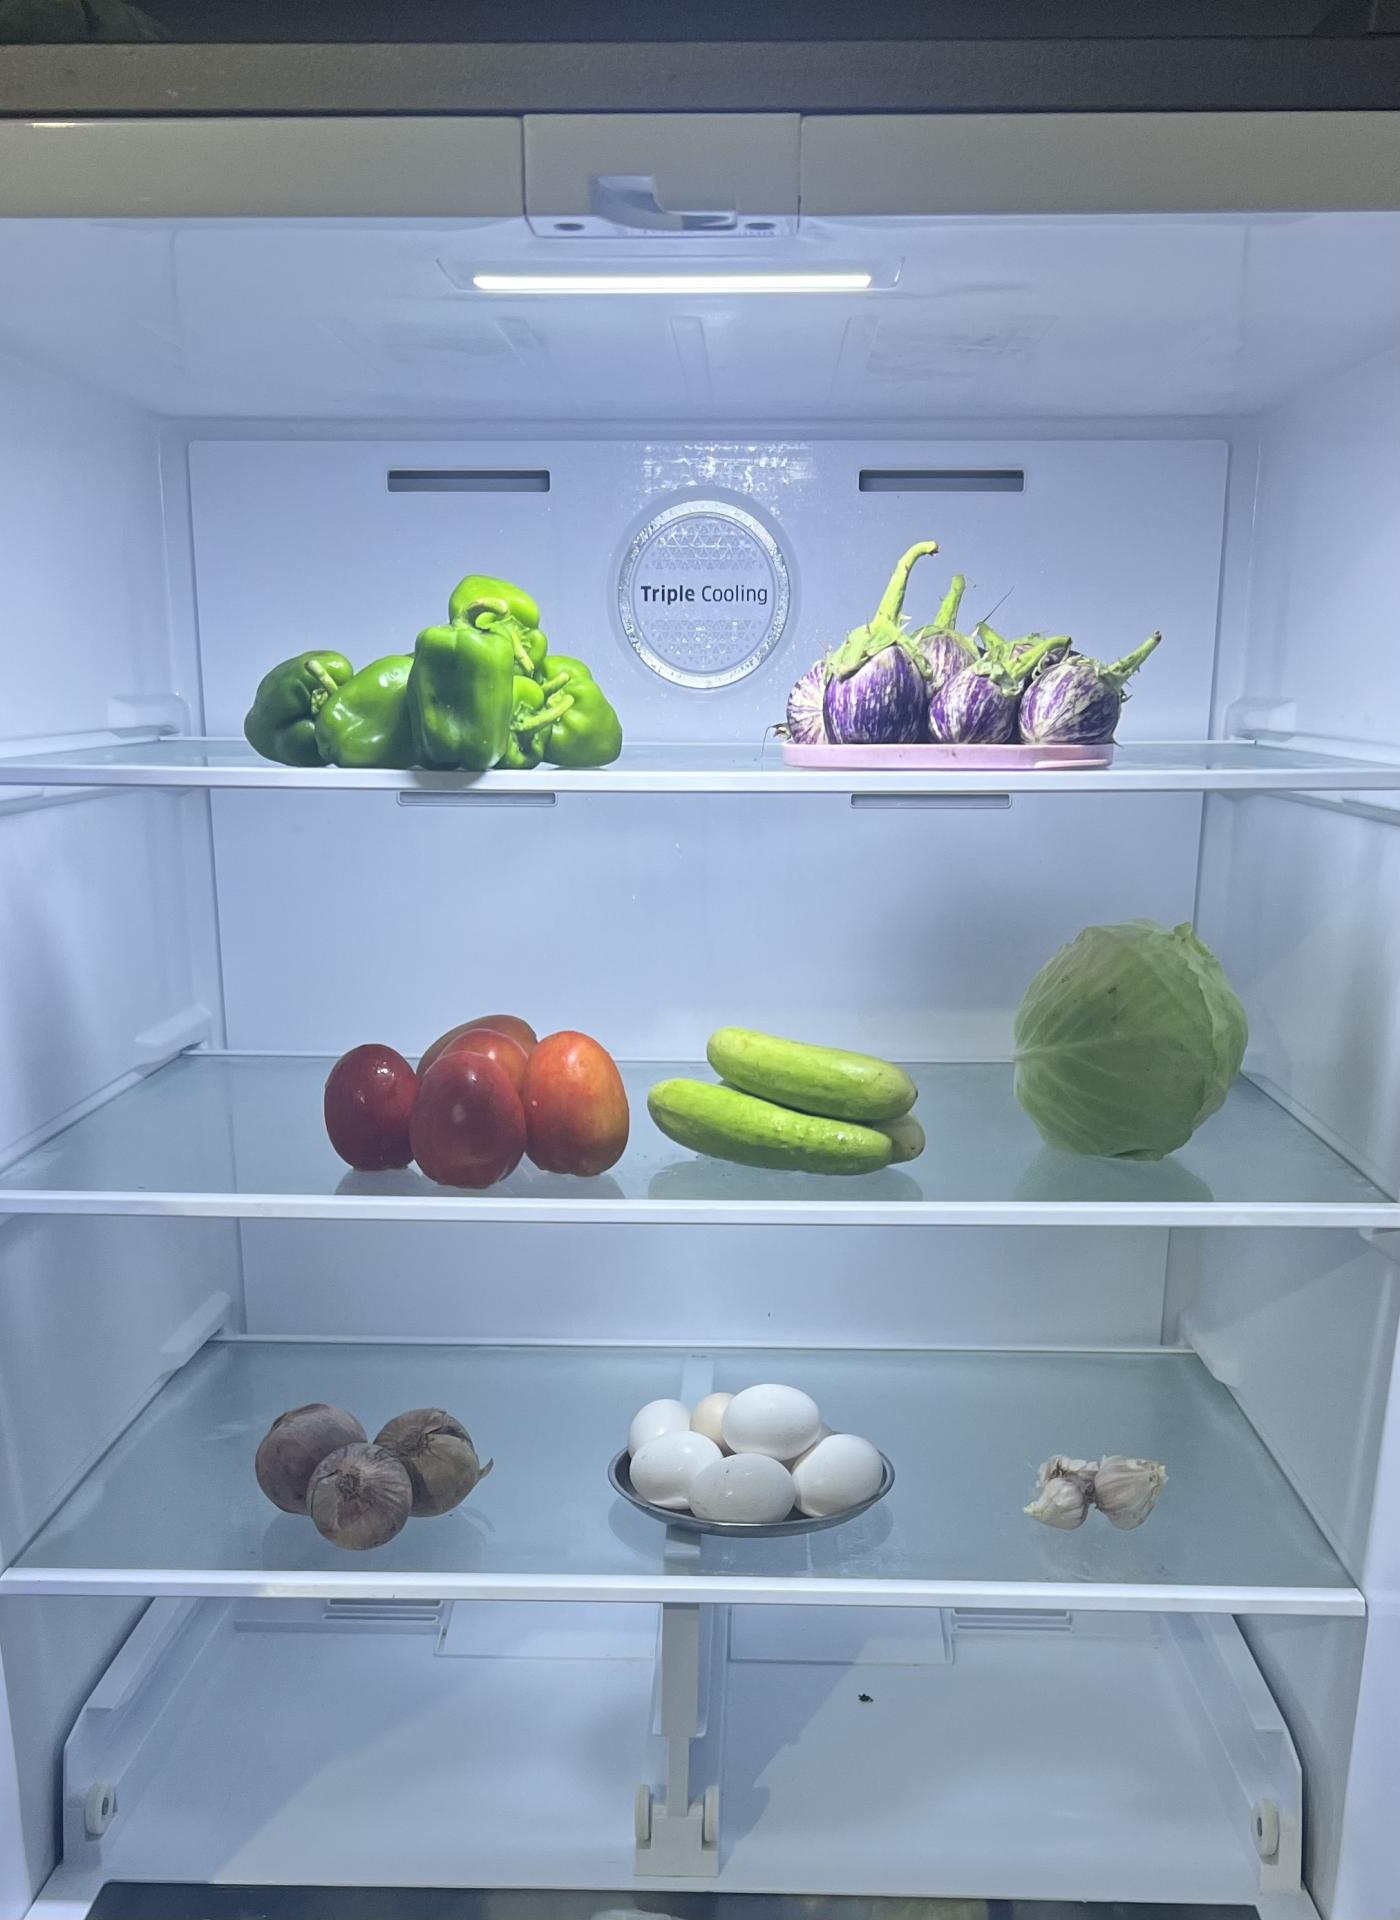brinjal: (786, 613, 1136, 760), (261, 1394, 471, 1549)
cabbage: (1014, 926, 1249, 1170)
capsicum: (242, 608, 634, 771)
cucumber: (629, 1023, 926, 1161)
egg: (611, 1383, 895, 1537)
garlic: (1024, 1444, 1167, 1534)
tomato: (322, 1011, 635, 1190)
